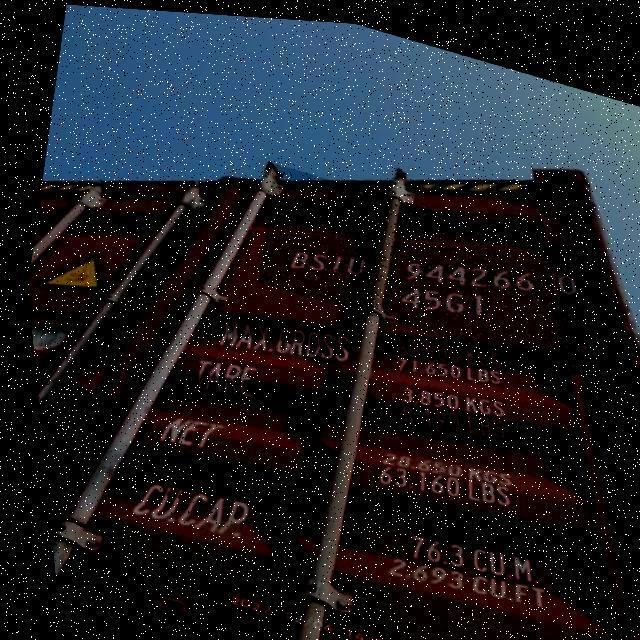container_number_h: (243, 158, 598, 369)
